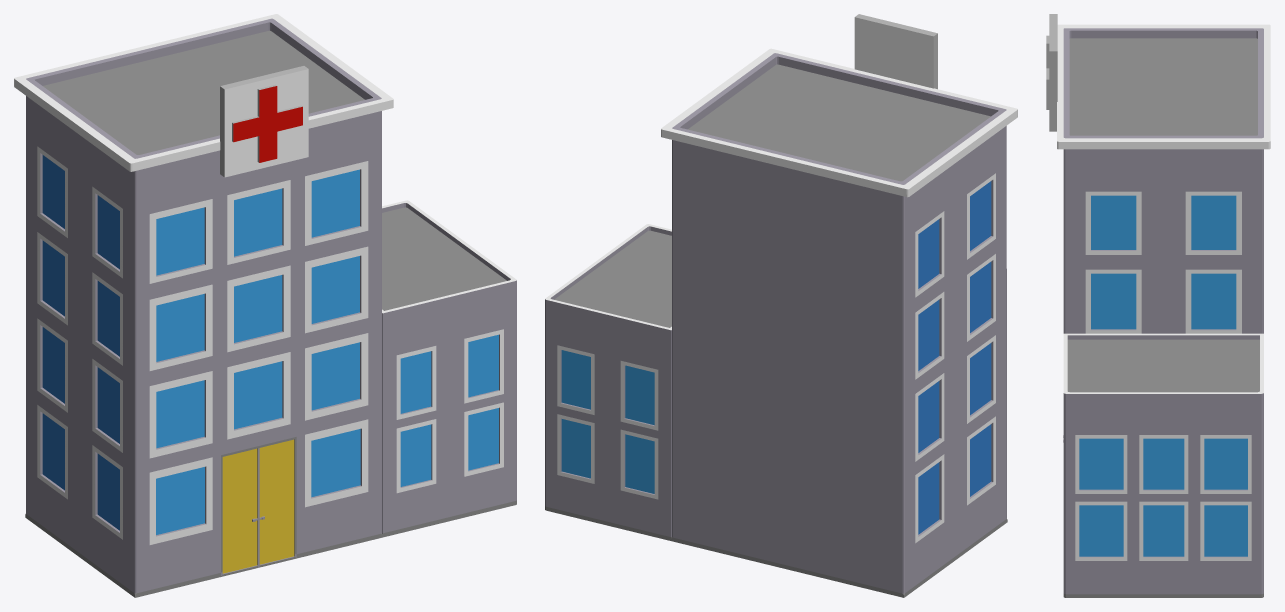
Rendered from Hospital.glb.
3 renders of one model, left to right at view 1: azimuth 30°, elevation 25°; view 2: azimuth 150°, elevation 25°; view 3: azimuth 270°, elevation 25°, orthographic. The views are drawn at different scales.
Parts seen in each view (by area): view 1: Cube, Cube.001, Cube.002; view 2: Cube, Cube.001, Cube.002; view 3: Cube, Cube.001, Cube.002.
Part boxes in pixels (x1,y1,x2,y2): Cube: [14, 14, 393, 597]; Cube.001: [382, 200, 516, 537]; Cube.002: [220, 66, 308, 177]; Cube: [661, 48, 1017, 597]; Cube.001: [545, 224, 671, 540]; Cube.002: [854, 14, 937, 89]; Cube: [1057, 24, 1270, 442]; Cube.001: [1063, 333, 1263, 597]; Cube.002: [1046, 14, 1057, 131].
Size of the model in its own units: 41.89 by 50.6 by 22.83.
